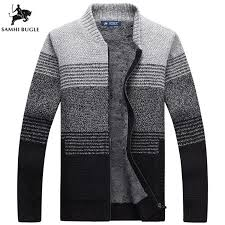S_cardigan sweater: (14, 12, 218, 225)
